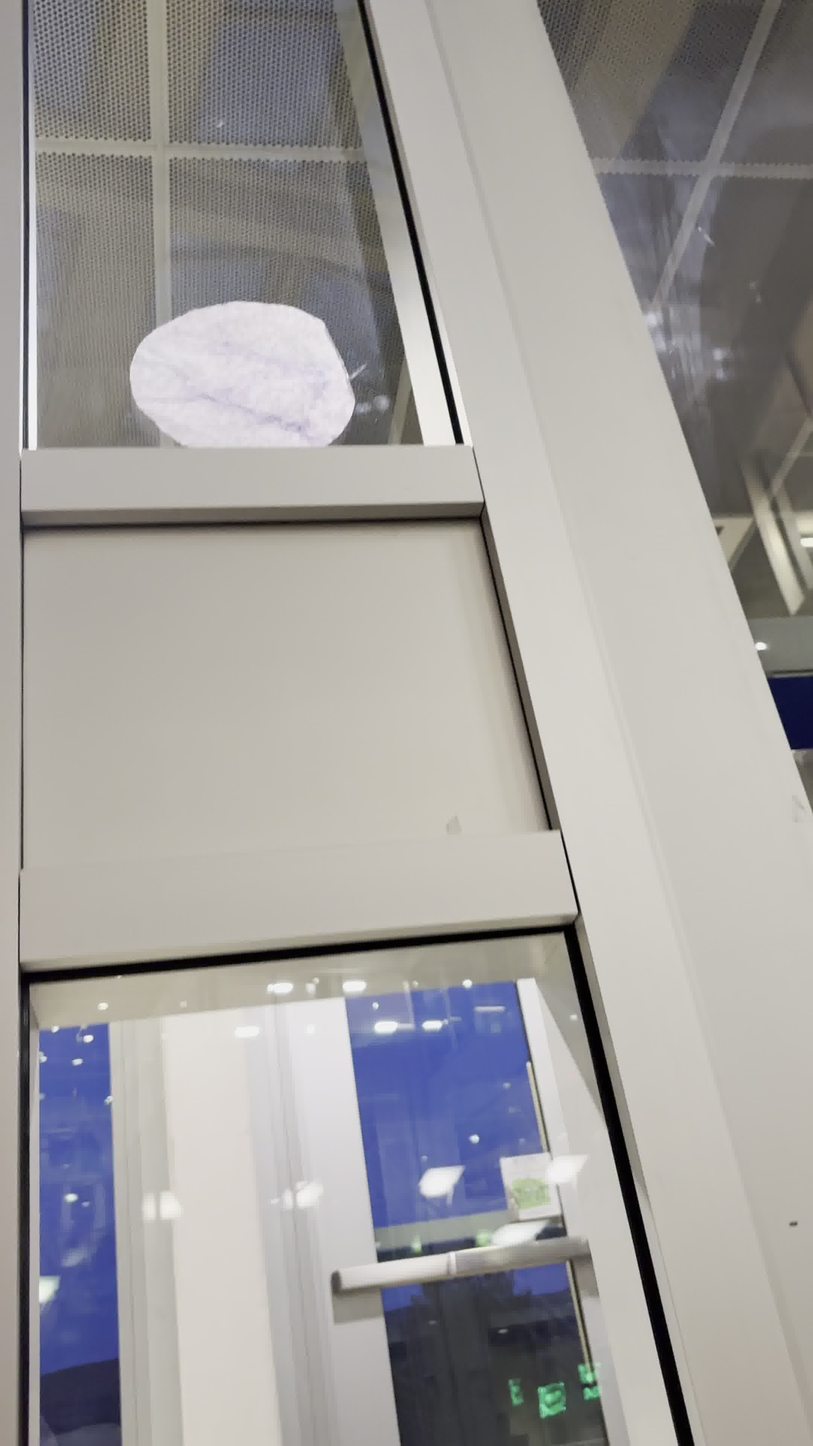Target: (126, 297, 360, 453)
